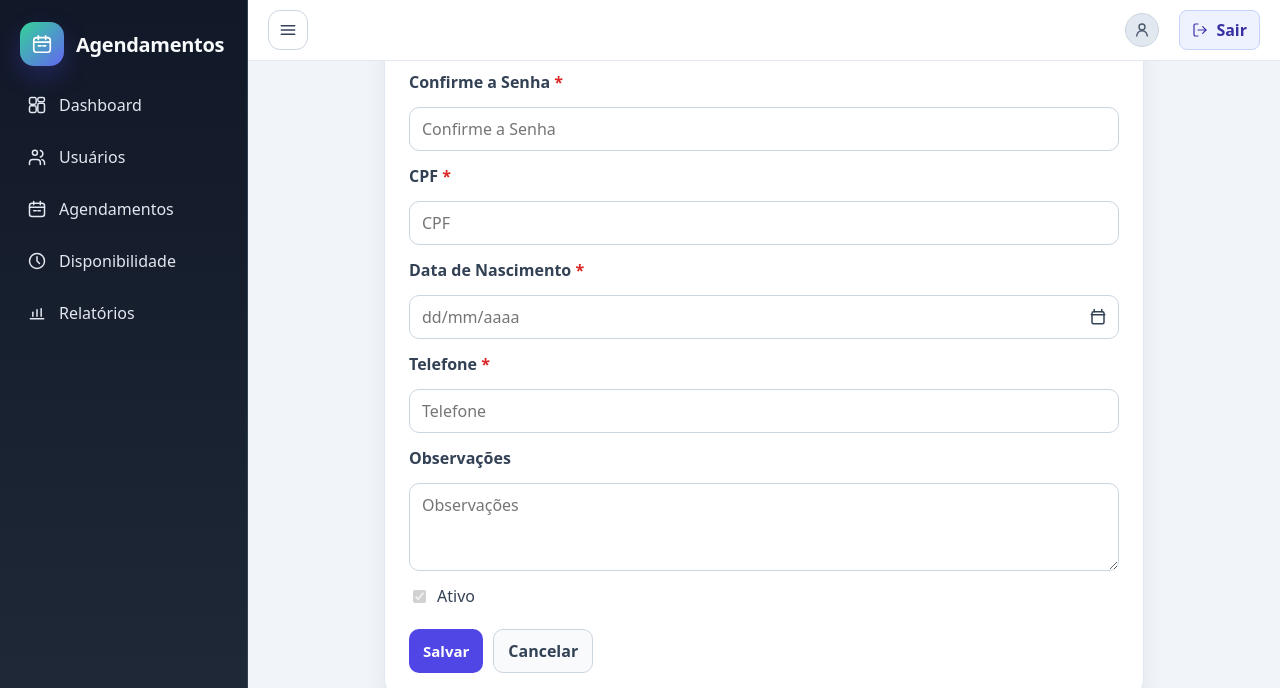
UsuarioForm › valida campos obrigatórios
The width and height of the screenshot is (1280, 688).
(page scrolled)
What coordinates should you click on to do the following:
click the button "Salvar"
I would click on:
 (446, 651)
Its box is x1=409 y1=629 x2=483 y2=673.
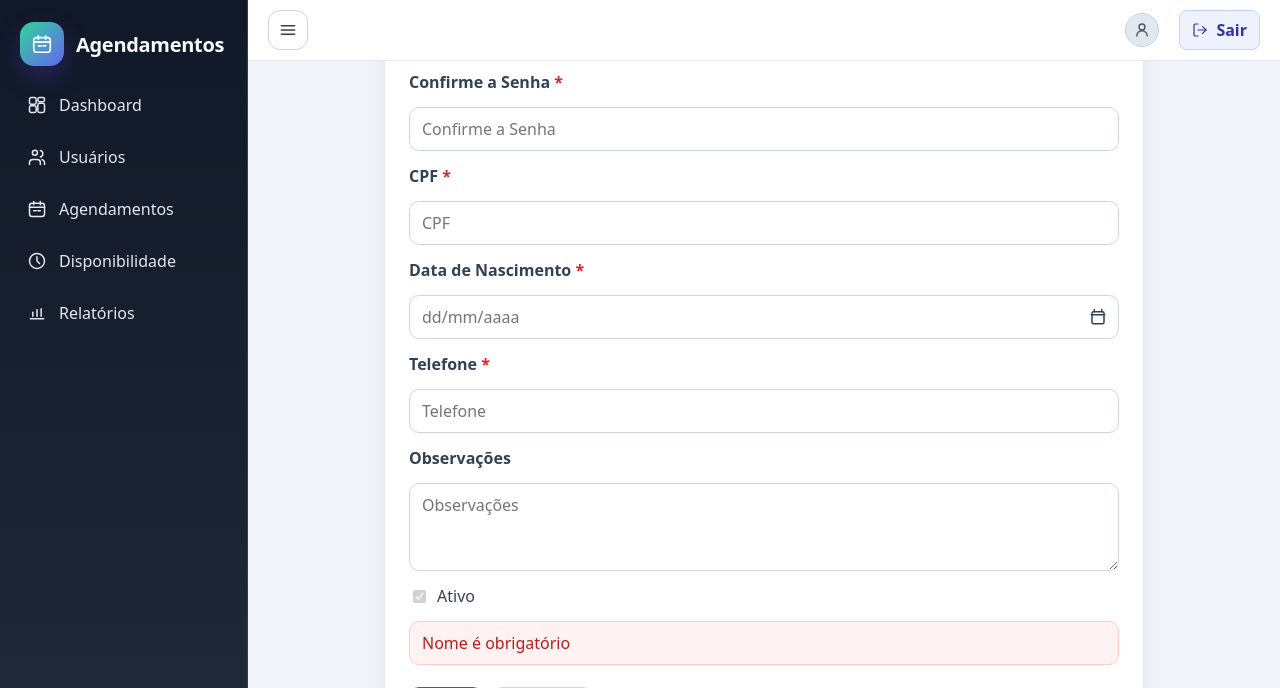
Expected: the text with test id "form-error" reads "Nome é obrigatório", x1=422 y1=632 x2=570 y2=654
